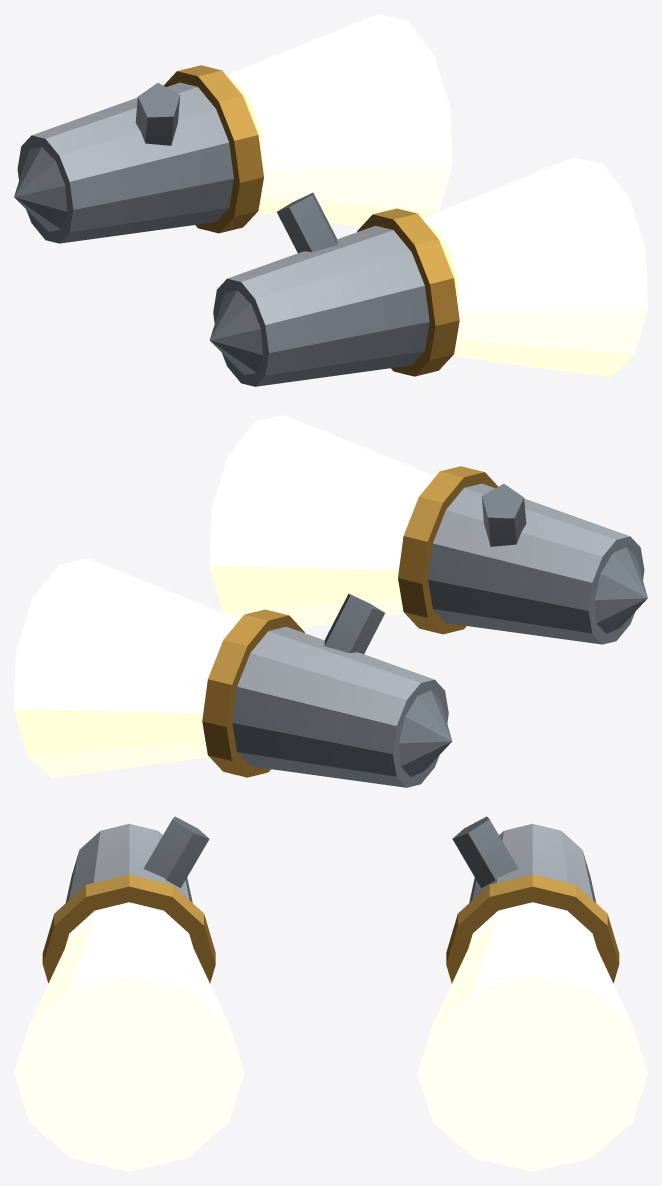
The model's file is gd_submarine_lamps.glb.
3 views of the same model, one above another, from view 1: azimuth 30°, elevation 25°; view 2: azimuth 150°, elevation 25°; view 3: azimuth 270°, elevation 25° (orthographic). The views are drawn at different scales.
Visible parts, largest first — view 1: base; view 2: base; view 3: base.
Part boxes in pixels (bbox=[...]): base: bbox=[14, 14, 647, 386]; base: bbox=[14, 415, 647, 787]; base: bbox=[14, 816, 647, 1171].
Bounding box in the file's own units: 0.1626 × 0.0872 × 0.22.
